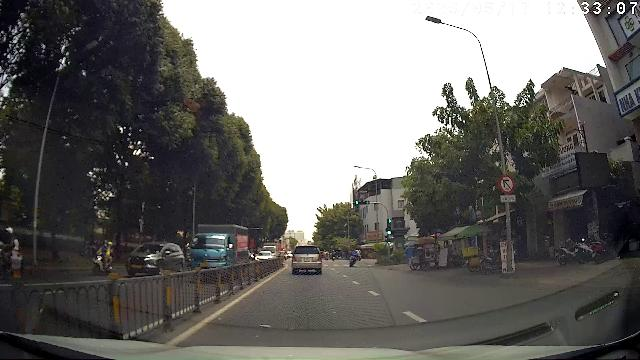103b-cam-oto-re-phai: (498, 174, 516, 194)
